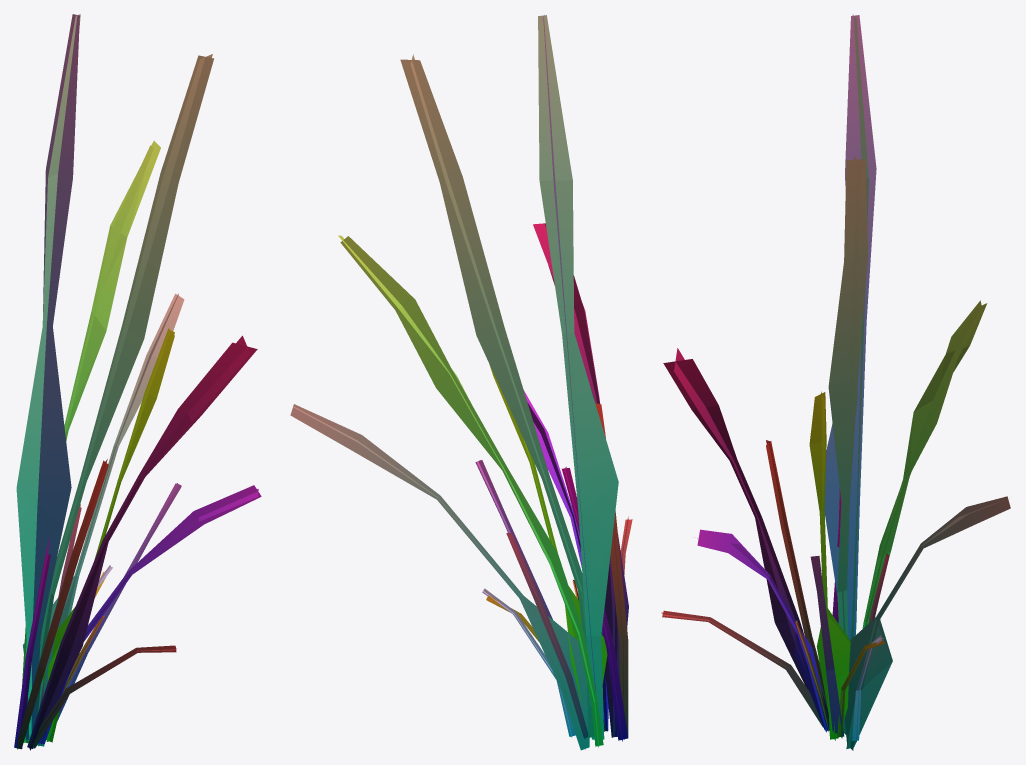
The model's file is Nordic_Coastal_Groundcover_vlqkdeaja_Mid_vlqkdeaja_VarO_LOD0.fbx.
3 renders of one model, left to right at view 1: azimuth 30°, elevation 25°; view 2: azimuth 150°, elevation 25°; view 3: azimuth 270°, elevation 25°, orthographic. The views are drawn at different scales.
Visible parts, largest first — view 1: _5wwk_VarO_LOD1; view 2: _5wwk_VarO_LOD1; view 3: _5wwk_VarO_LOD1.
Part boxes in pixels (x1,y1,x2,y2): _5wwk_VarO_LOD1: (14, 14, 261, 750); _5wwk_VarO_LOD1: (290, 15, 632, 750); _5wwk_VarO_LOD1: (661, 14, 1010, 750).
Size of the model in its own units: 29.23 by 80.5 by 33.92.
